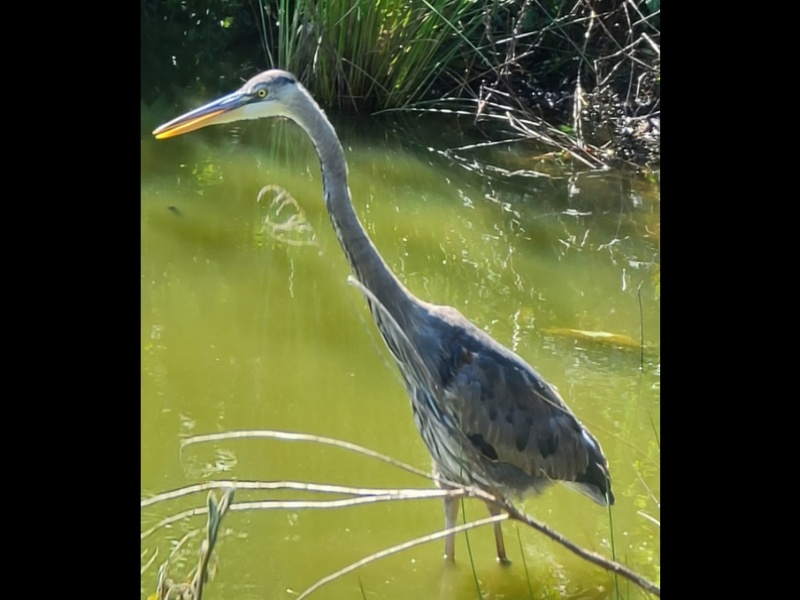heron: (154, 66, 620, 577)
